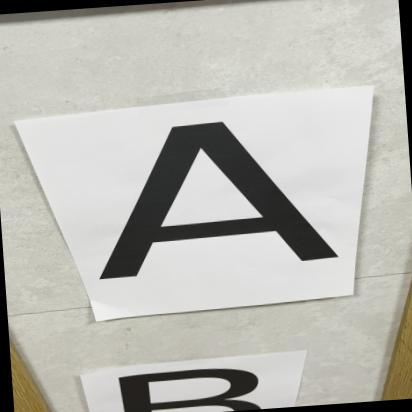seat: (61, 105, 356, 286)
